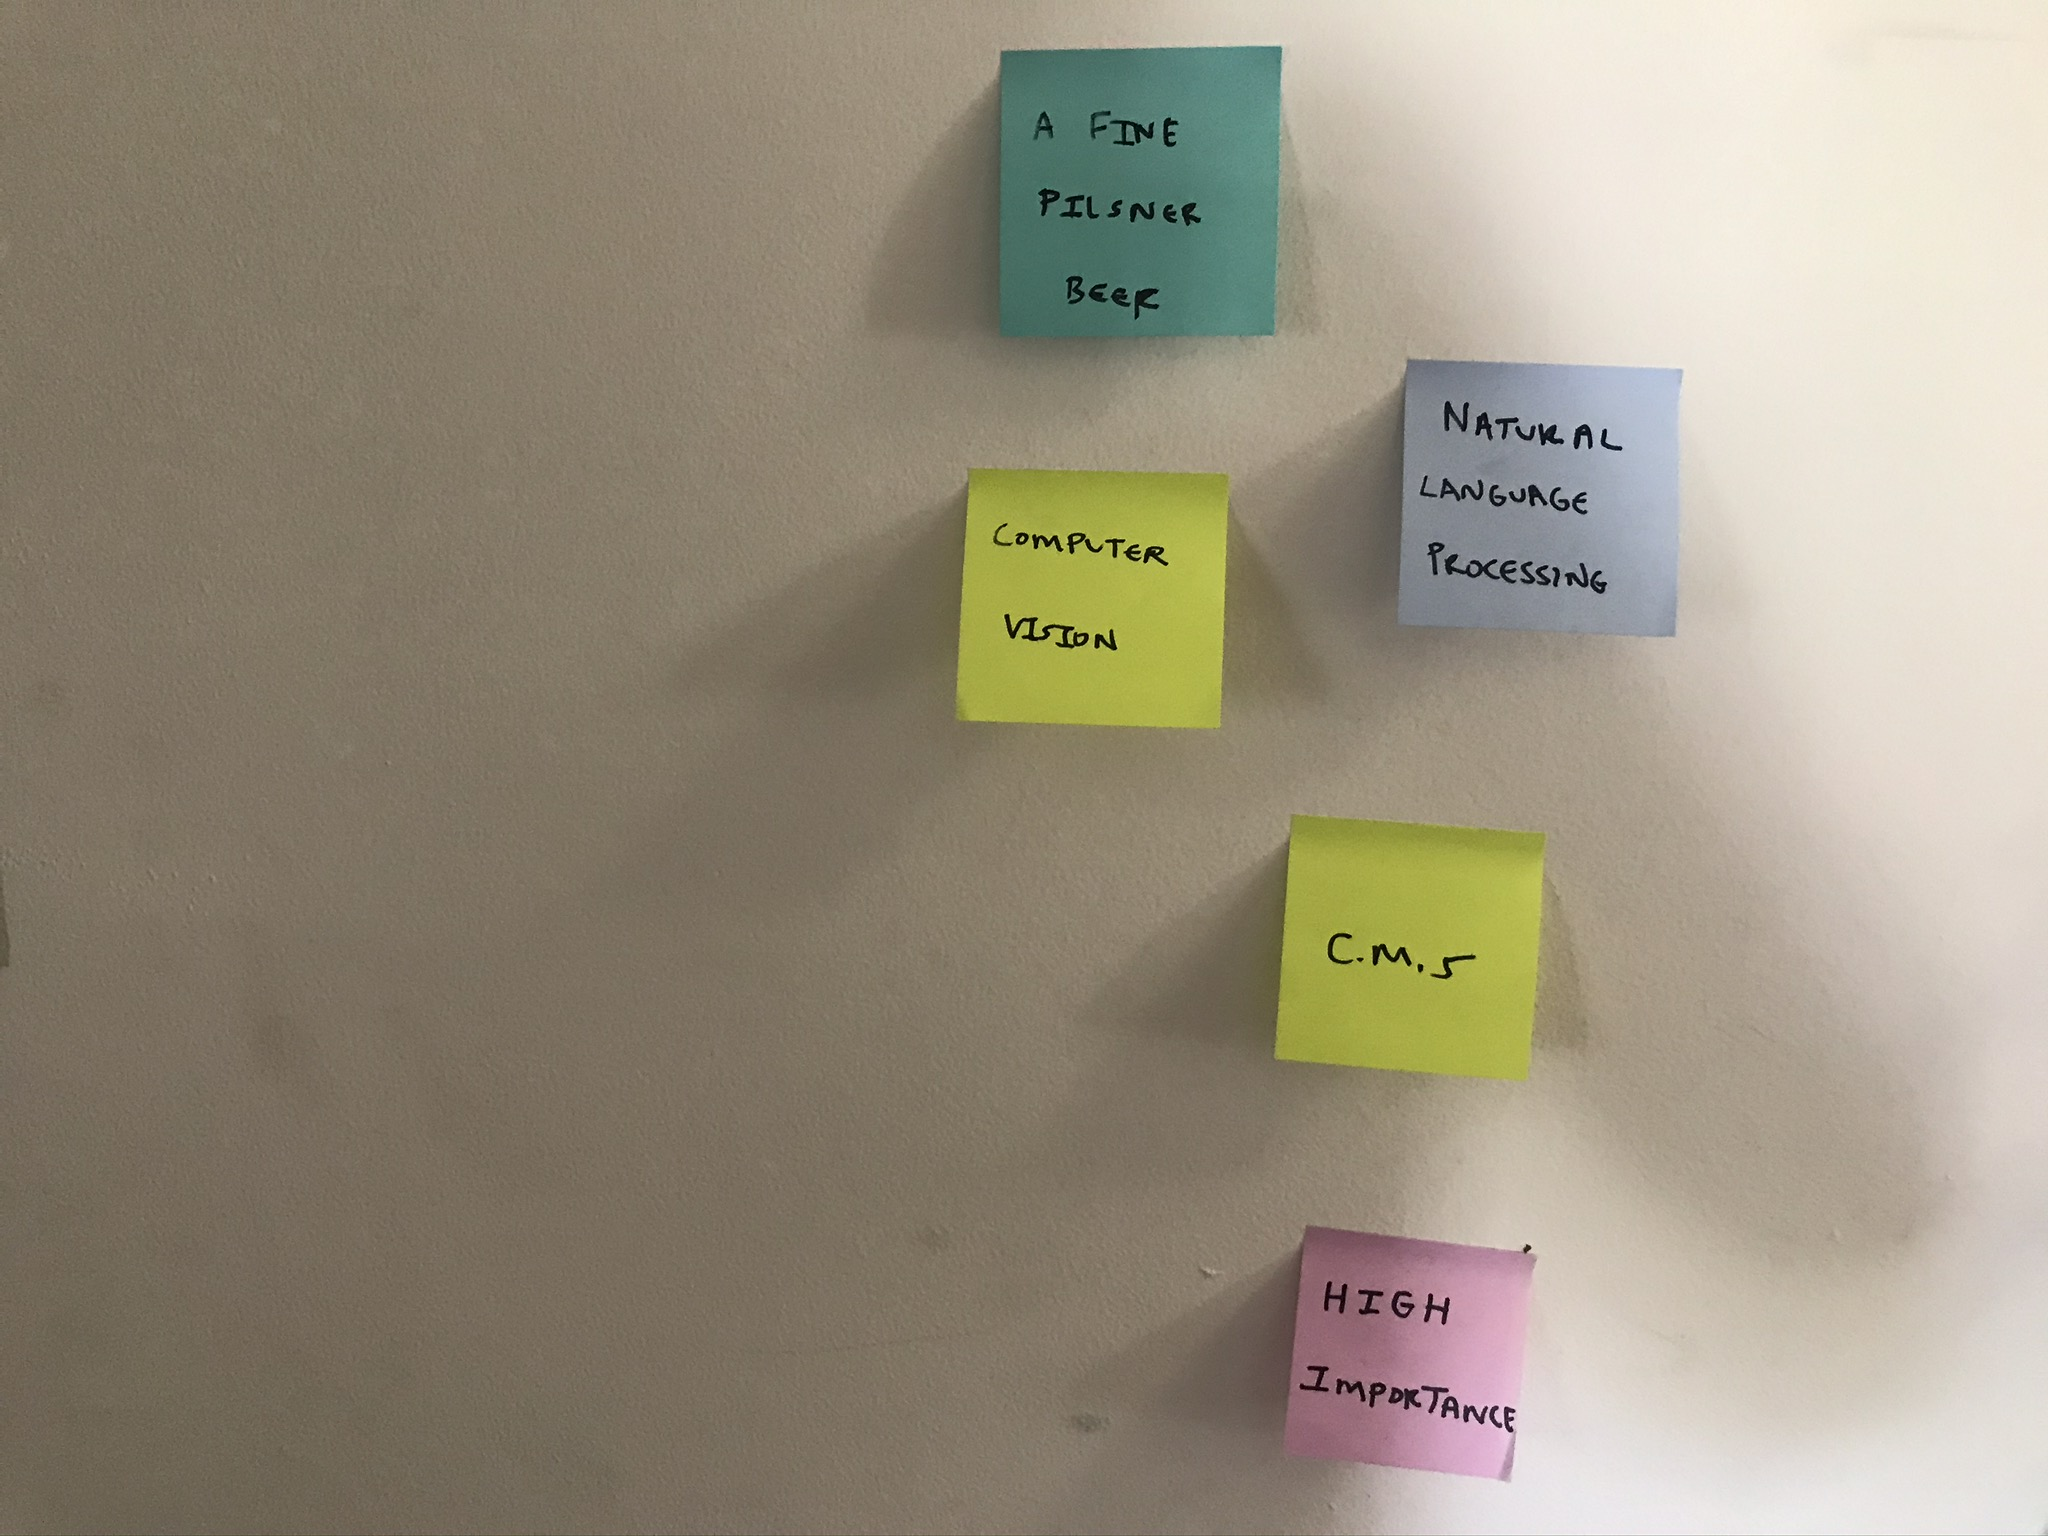sticky: (998, 45, 1282, 337), (1397, 353, 1685, 636), (1274, 810, 1546, 1081), (955, 470, 1229, 729), (1282, 1225, 1537, 1484)
